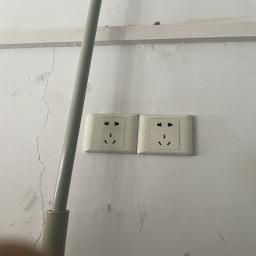outlet: (140, 110, 197, 158), (84, 111, 140, 155)
